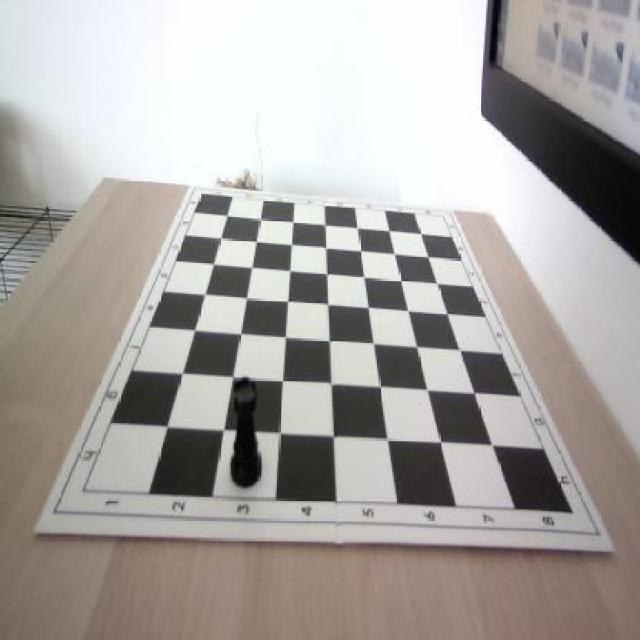black-queen: (229, 375, 263, 488)
